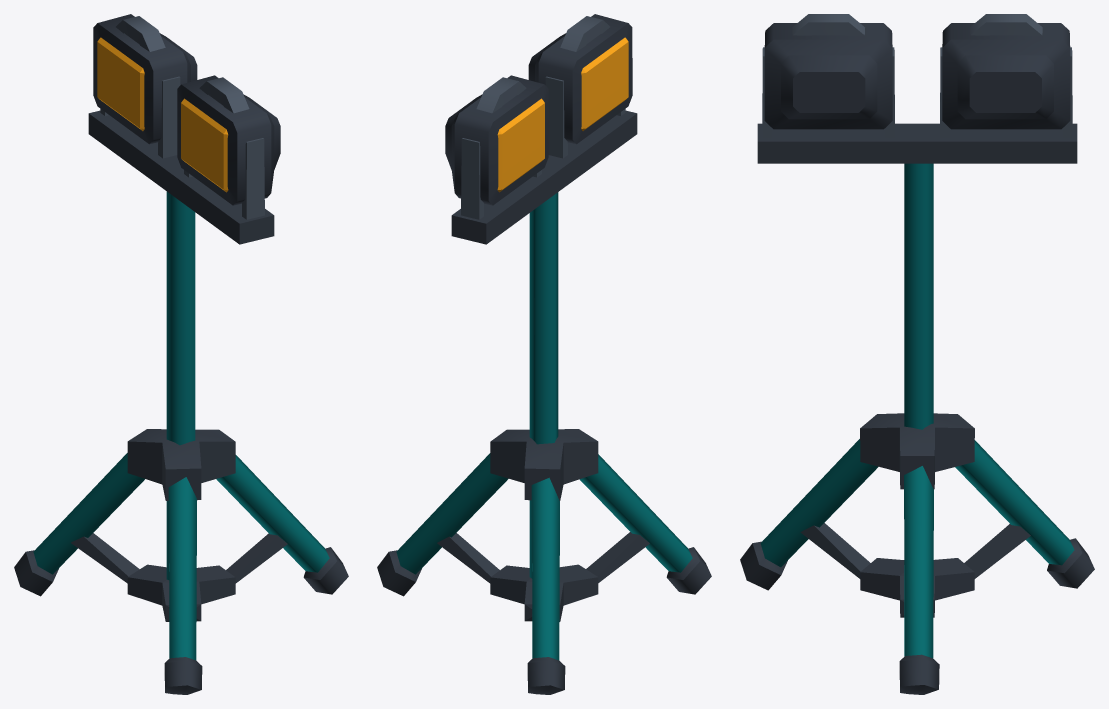
File: LightsC_1_F.fbx
3 views of the same model, side by side, from view 1: azimuth 30°, elevation 25°; view 2: azimuth 150°, elevation 25°; view 3: azimuth 270°, elevation 25° (orthographic). The views are drawn at different scales.
Visible parts, largest first — view 1: LightsC_1_F; view 2: LightsC_1_F; view 3: LightsC_1_F.
Part boxes in pixels (box(x1,y1,x2,y2)): LightsC_1_F: box(14, 14, 348, 694); LightsC_1_F: box(377, 14, 711, 694); LightsC_1_F: box(740, 14, 1094, 694).
Bounding box in the file's own units: 75.14 × 160 × 85.05.
